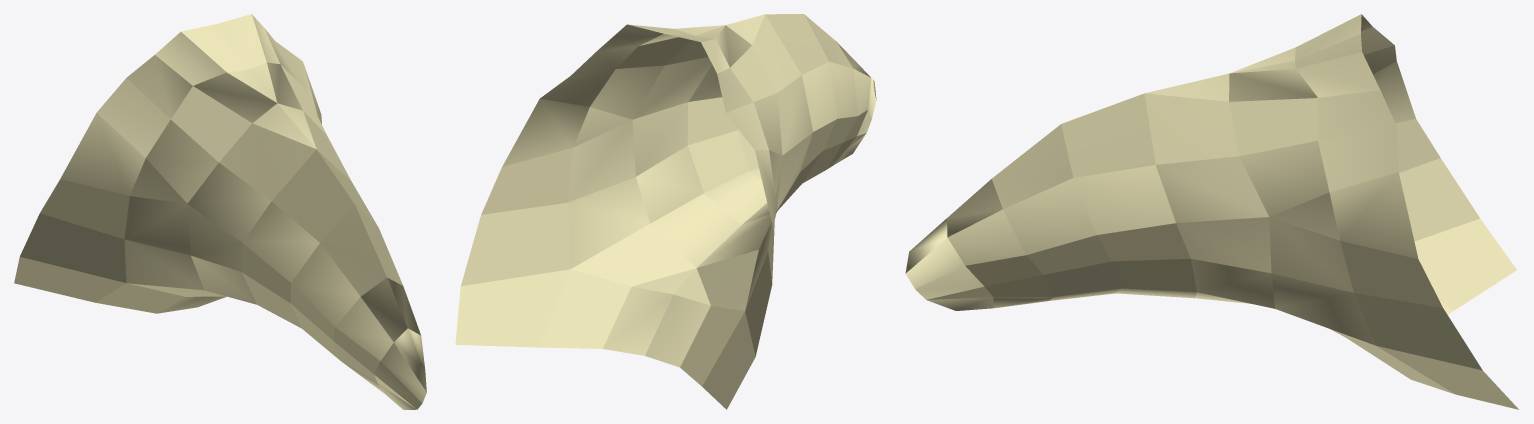
The model's file is BECCO (1).fbx.
3 views of the same model, side by side, from view 1: azimuth 30°, elevation 25°; view 2: azimuth 150°, elevation 25°; view 3: azimuth 270°, elevation 25° (orthographic). The views are drawn at different scales.
Visible parts, largest first — view 1: polySurface1.018; view 2: polySurface1.018; view 3: polySurface1.018.
Part boxes in pixels (<box>): polySurface1.018: <box>14,14,426,409</box>; polySurface1.018: <box>455,14,876,409</box>; polySurface1.018: <box>905,14,1518,409</box>.
Bounding box in the file's own units: 32.51 × 32.63 × 55.5.
